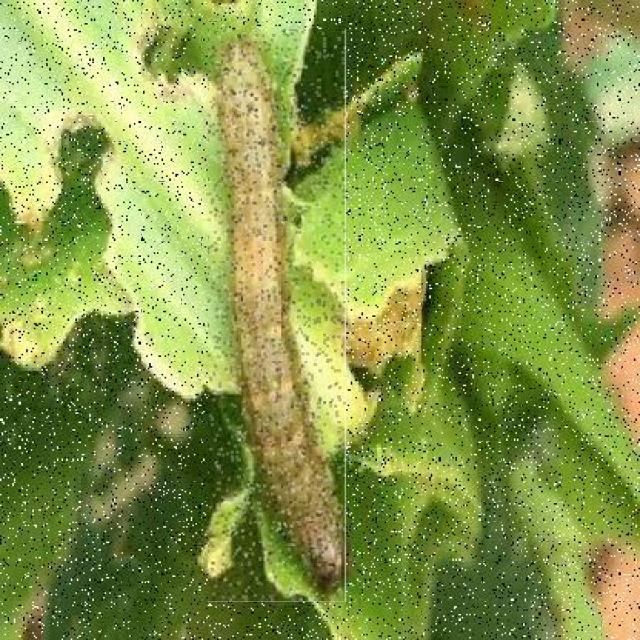Plaga: (207, 29, 347, 603)
